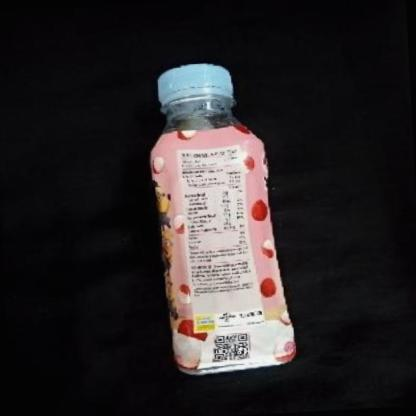plastic_bottles: (142, 56, 302, 378)
